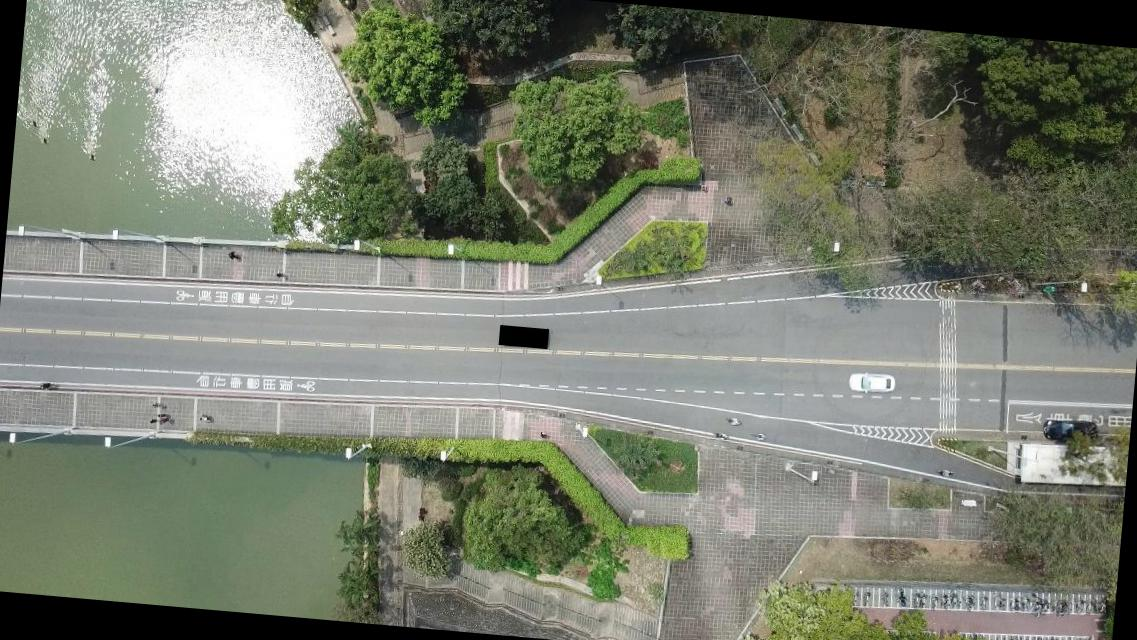vehicle: (1041, 418, 1097, 446), (848, 370, 895, 396)
